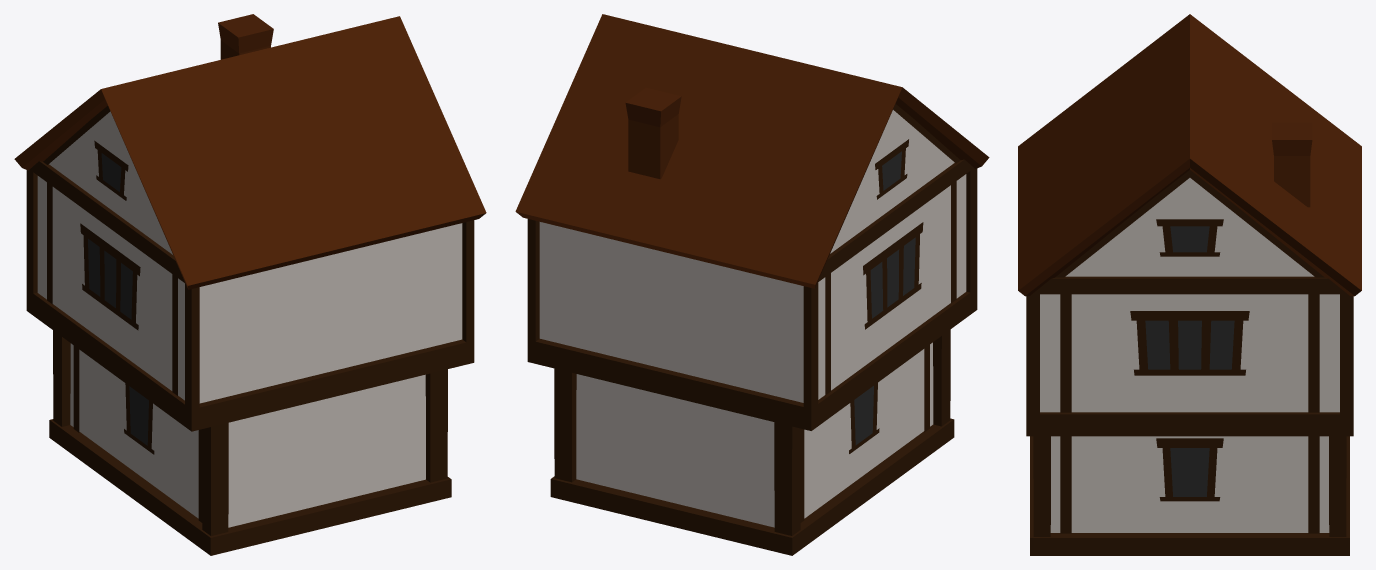
Rendered from houseSingular.fbx.
The picture shows the model from 3 angles, left to right: view 1: azimuth 30°, elevation 25°; view 2: azimuth 150°, elevation 25°; view 3: azimuth 270°, elevation 25°; orthographic projection.
Parts seen in each view (by area): view 1: HOUSE_SINGULAR; view 2: HOUSE_SINGULAR; view 3: HOUSE_SINGULAR.
Boxes of the visible parts, left/top/right/bottom form: HOUSE_SINGULAR: left=14, top=14, right=486, bottom=555; HOUSE_SINGULAR: left=515, top=14, right=989, bottom=555; HOUSE_SINGULAR: left=1018, top=14, right=1361, bottom=555.
Bounding box in the file's own units: 231 × 308 × 232.
